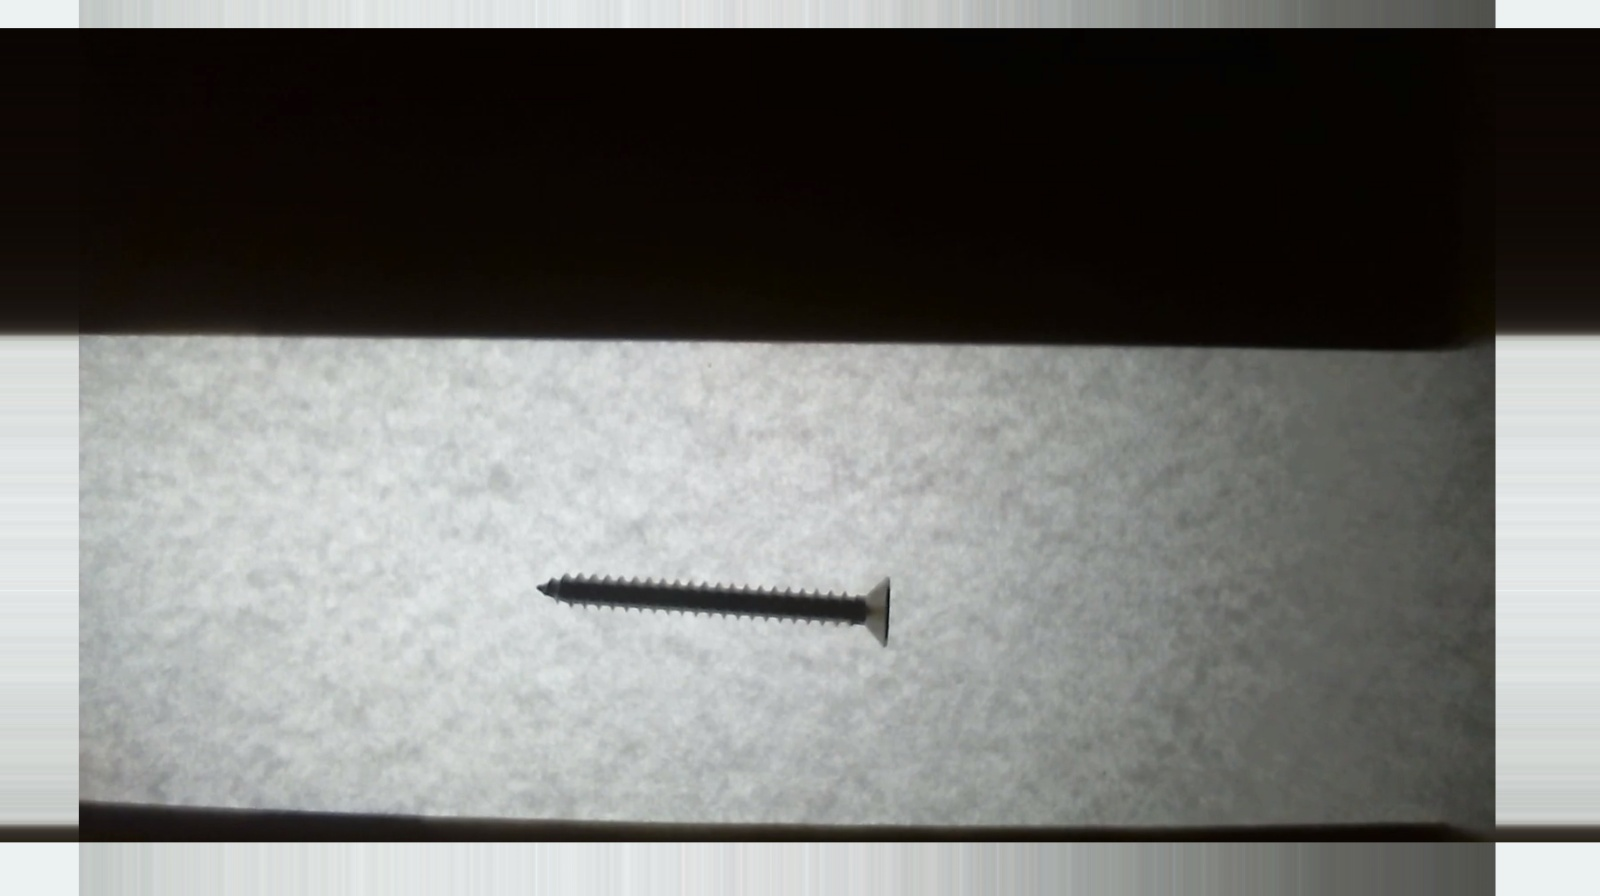S002: (505, 555, 916, 653)
